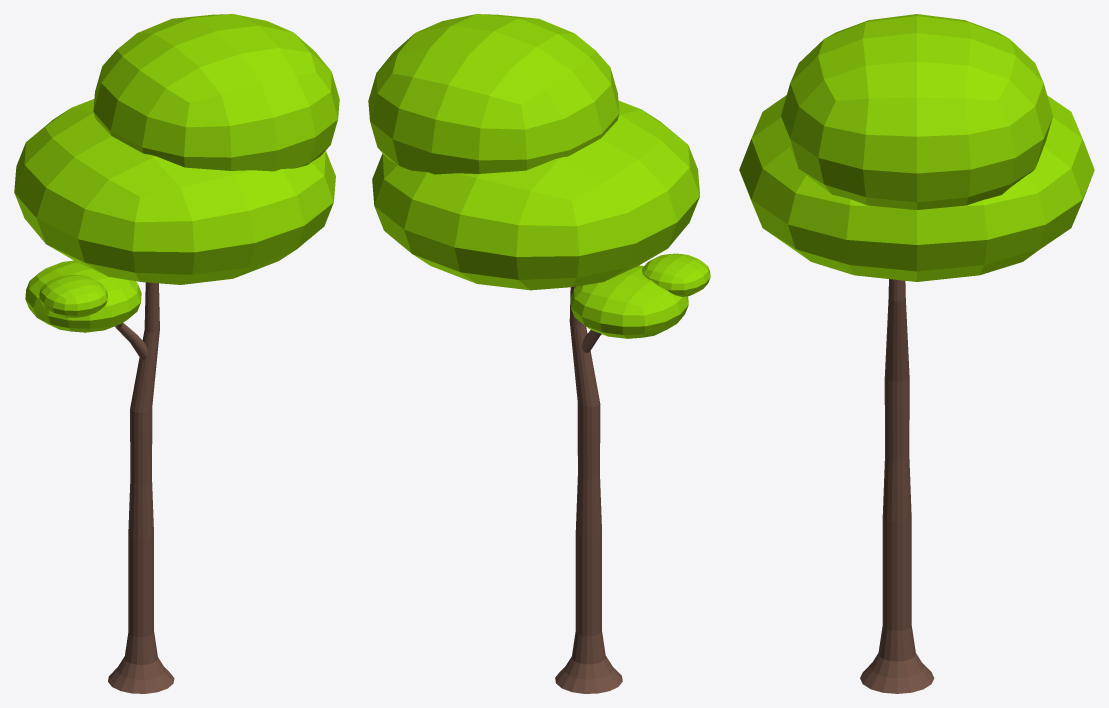
File: GiantTree_A.fbx
3 views of the same model, side by side, from view 1: azimuth 30°, elevation 25°; view 2: azimuth 150°, elevation 25°; view 3: azimuth 270°, elevation 25° (orthographic). The views are drawn at different scales.
Visible parts, largest first — view 1: Cube.192, Cube.194, Cylinder.059, Cube.193, Cube.195; view 2: Cube.192, Cube.194, Cylinder.059, Cube.193, Cube.195; view 3: Cube.194, Cube.192, Cylinder.059.
Boxes of the visible parts, x1,y1,x2,y2 form: Cube.192: [14, 99, 335, 284]; Cube.194: [93, 14, 339, 171]; Cylinder.059: [108, 282, 174, 693]; Cube.193: [25, 260, 141, 332]; Cube.195: [39, 274, 107, 317]; Cube.192: [372, 100, 699, 290]; Cube.194: [368, 14, 619, 174]; Cylinder.059: [555, 286, 622, 693]; Cube.193: [570, 265, 688, 338]; Cube.195: [642, 253, 710, 296]; Cube.194: [781, 14, 1052, 209]; Cube.192: [739, 95, 1094, 281]; Cylinder.059: [860, 279, 934, 693].
Bounding box in the file's own units: 4564 × 9154 × 4270.
